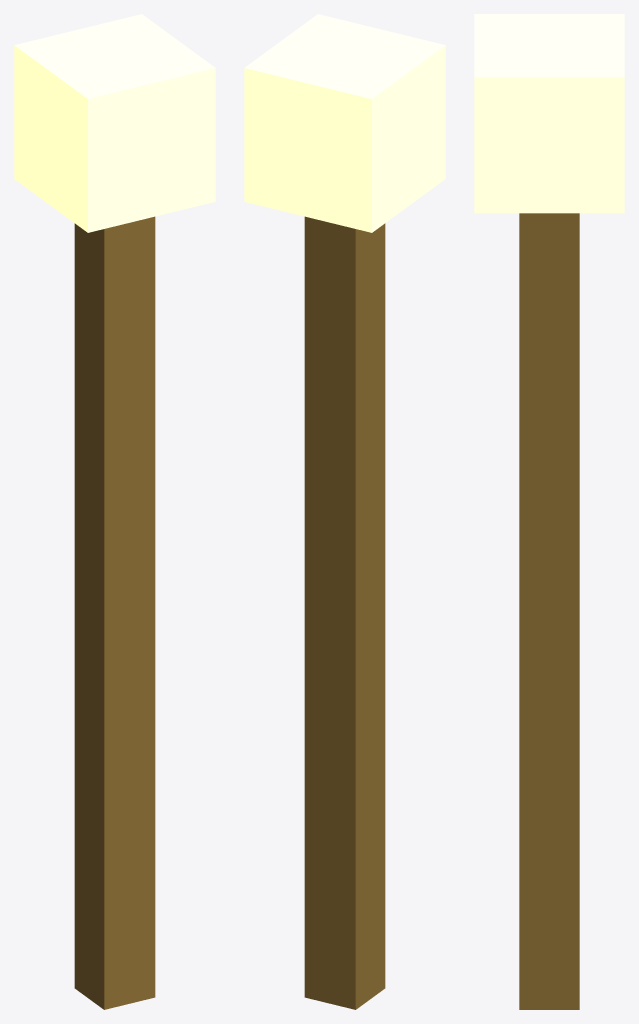
The model's file is brass_lamp.glb.
3 renders of one model, left to right at view 1: azimuth 30°, elevation 25°; view 2: azimuth 150°, elevation 25°; view 3: azimuth 270°, elevation 25°, orthographic.
Visible parts, largest first — view 1: Post, Lamp; view 2: Post, Lamp; view 3: Post, Lamp.
Boxes of the visible parts, bbox=[...] form: Post: bbox=[74, 216, 155, 1009]; Lamp: bbox=[14, 14, 215, 232]; Post: bbox=[304, 216, 385, 1009]; Lamp: bbox=[244, 14, 445, 232]; Post: bbox=[519, 213, 579, 1009]; Lamp: bbox=[474, 14, 624, 213].
Bounding box in the file's own units: 0.4 × 2.8 × 0.4.
